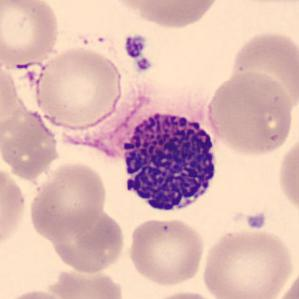Basophil: (113, 100, 223, 221)
Platelets: (122, 33, 147, 59), (245, 210, 267, 230), (134, 56, 152, 73)
RBC: (203, 69, 295, 158), (32, 44, 125, 132), (198, 225, 294, 299), (26, 160, 108, 242), (228, 28, 298, 114), (125, 216, 207, 286), (47, 207, 124, 273), (0, 106, 62, 180), (0, 0, 62, 69), (108, 0, 224, 30), (45, 264, 127, 299), (0, 161, 28, 253), (275, 133, 299, 216), (2, 286, 73, 299), (272, 265, 298, 299), (145, 289, 222, 299), (225, 0, 299, 7)
